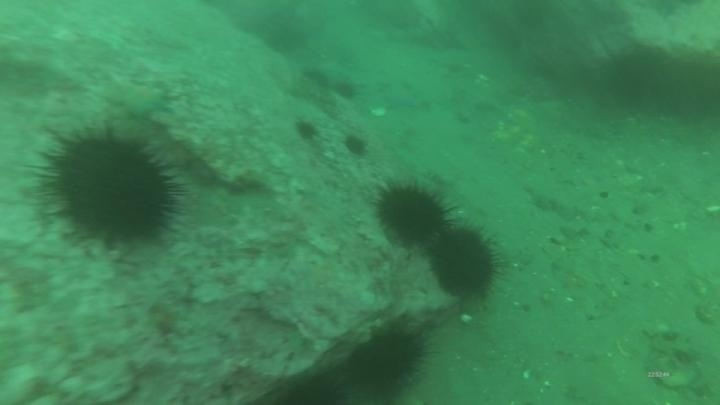echinus: (36, 123, 185, 251), (344, 319, 432, 402), (427, 222, 503, 302), (372, 178, 456, 249), (601, 49, 664, 108), (341, 131, 370, 158), (292, 117, 321, 143), (332, 77, 360, 103), (304, 63, 324, 82), (315, 74, 335, 93)
starfish: (119, 81, 174, 120), (380, 84, 423, 112)
